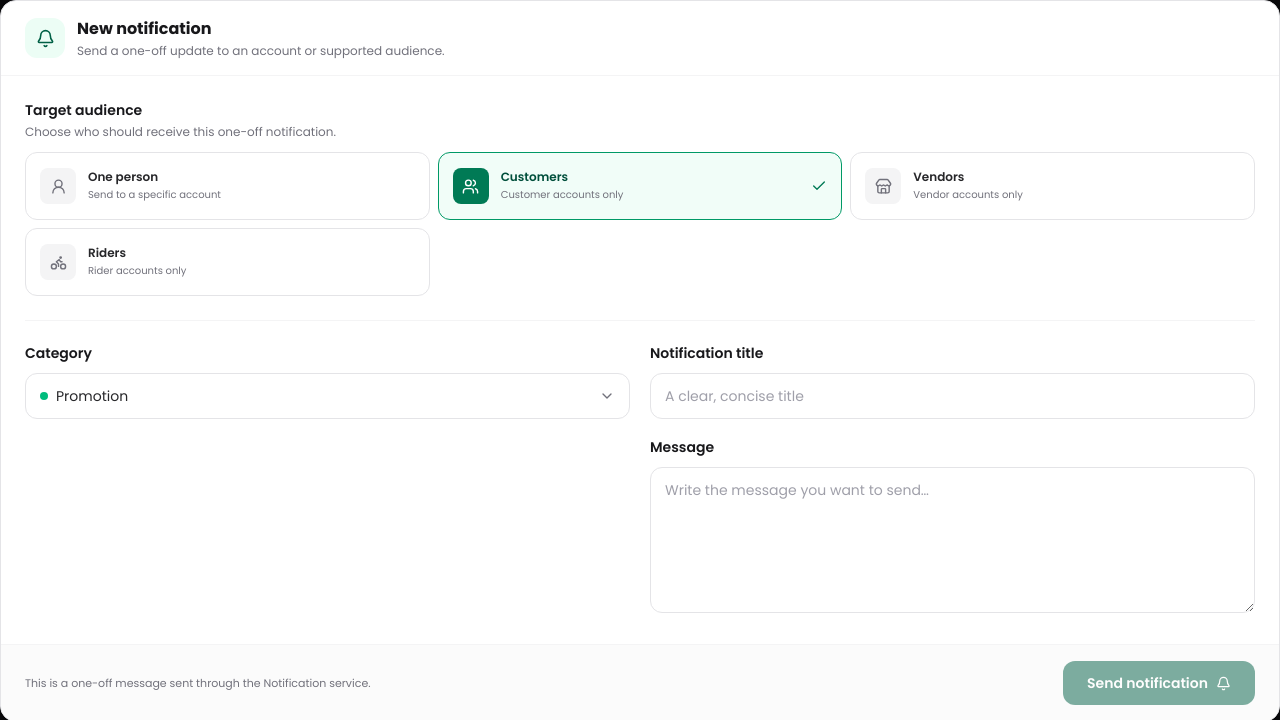
Test case: Super Admin one-off Notifications › sends the existing one-off Notification action through its unchanged endpoint
Click the button "Vendors Vendor accounts only": x=883, y=186 [850,152,1255,220]
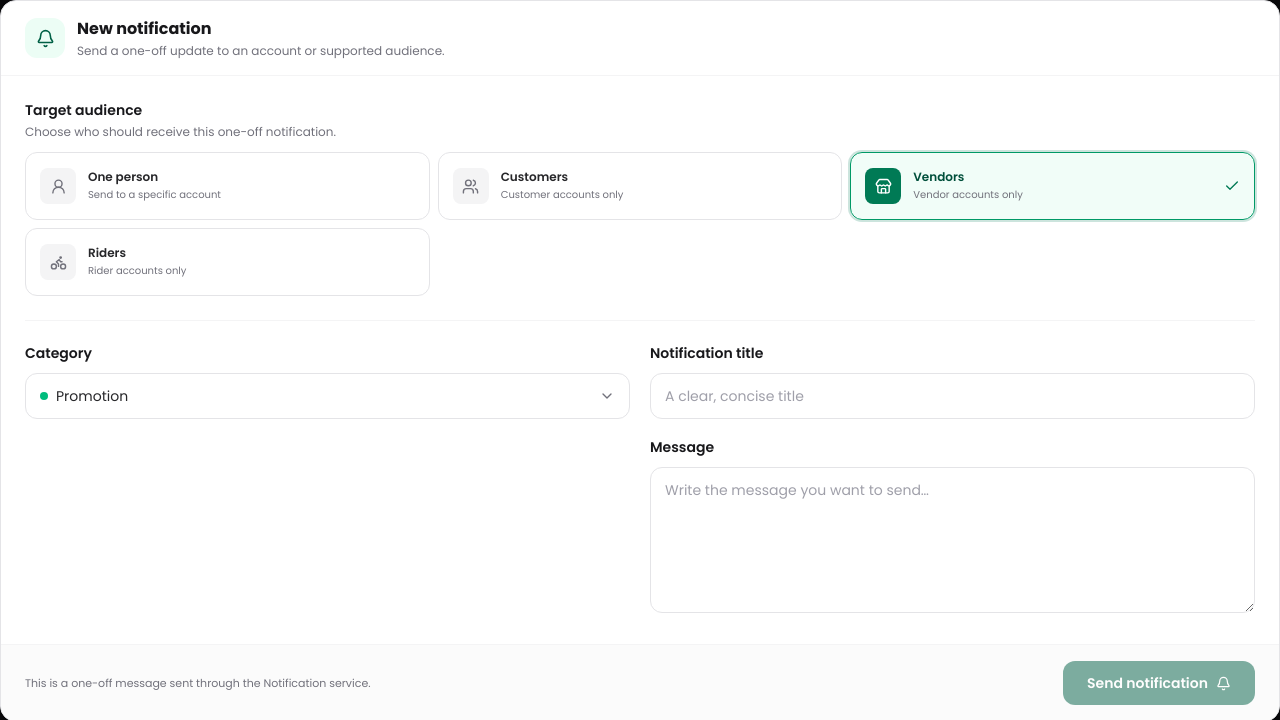
In the field labelled "Notification title": x=952, y=396 [650,373,1255,419], type "Service update"
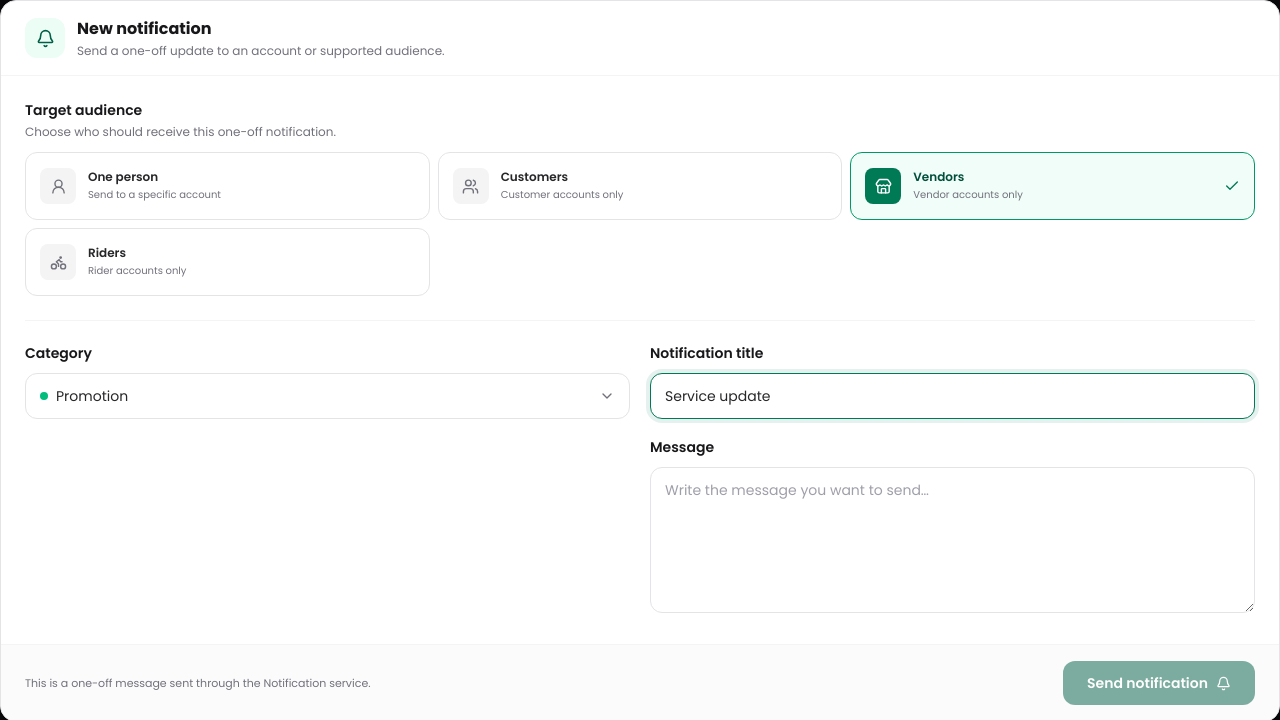
In the text box labelled "Message": x=952, y=540 [650,467,1255,613], type "Scheduled maintenance tonight."
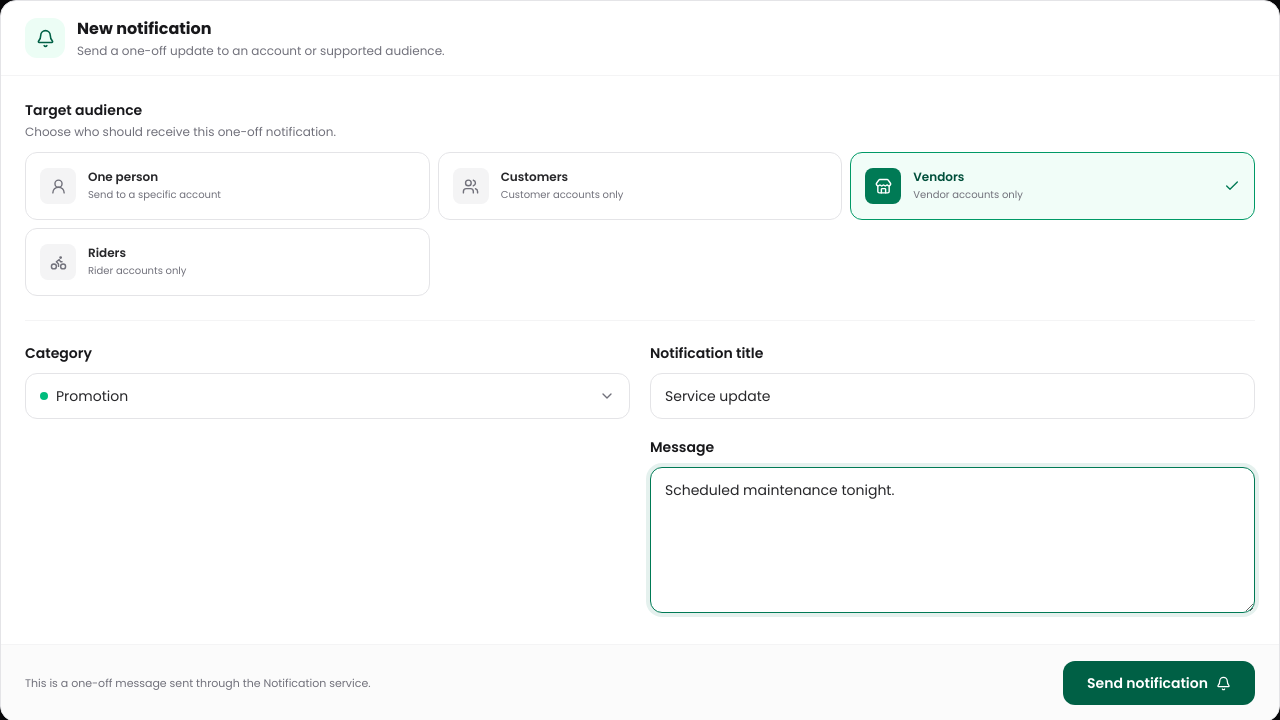
Click the button "Send notification": x=1159, y=683 [1063,661,1255,705]
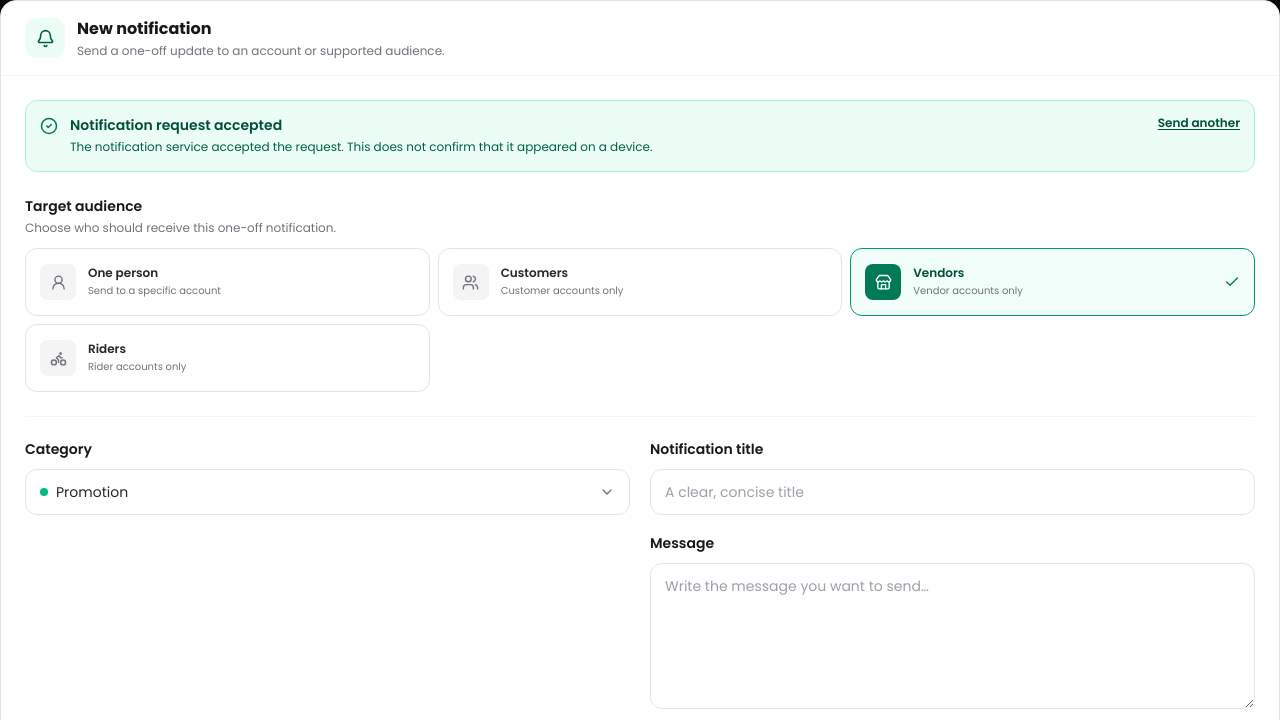
Check: the text "Notification request accepted" is shown, box [70,115,282,135]
